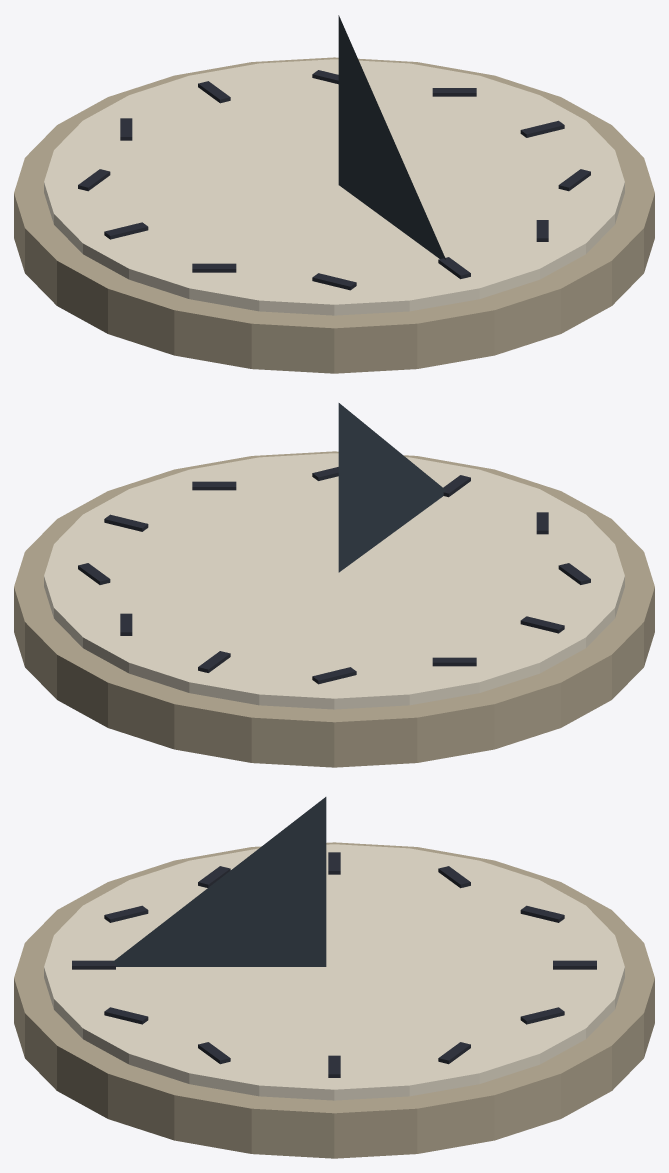
Rendered from relogio-sol.glb.
3 renders of one model, top to bottom at view 1: azimuth 30°, elevation 25°; view 2: azimuth 150°, elevation 25°; view 3: azimuth 270°, elevation 25°, orthographic.
Visible parts, largest first — view 1: relogio-sol; view 2: relogio-sol; view 3: relogio-sol.
Part boxes in pixels (x1=…): relogio-sol: x1=14, y1=15, x2=654, y2=373; relogio-sol: x1=14, y1=403, x2=654, y2=767; relogio-sol: x1=14, y1=797, x2=654, y2=1158.
Size of the model in its own units: 3.2 by 1.25 by 3.2.
